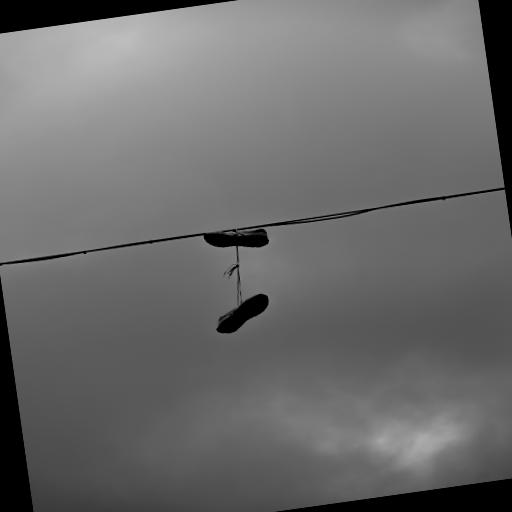shoe: (216, 295, 267, 333), (204, 229, 267, 247)
